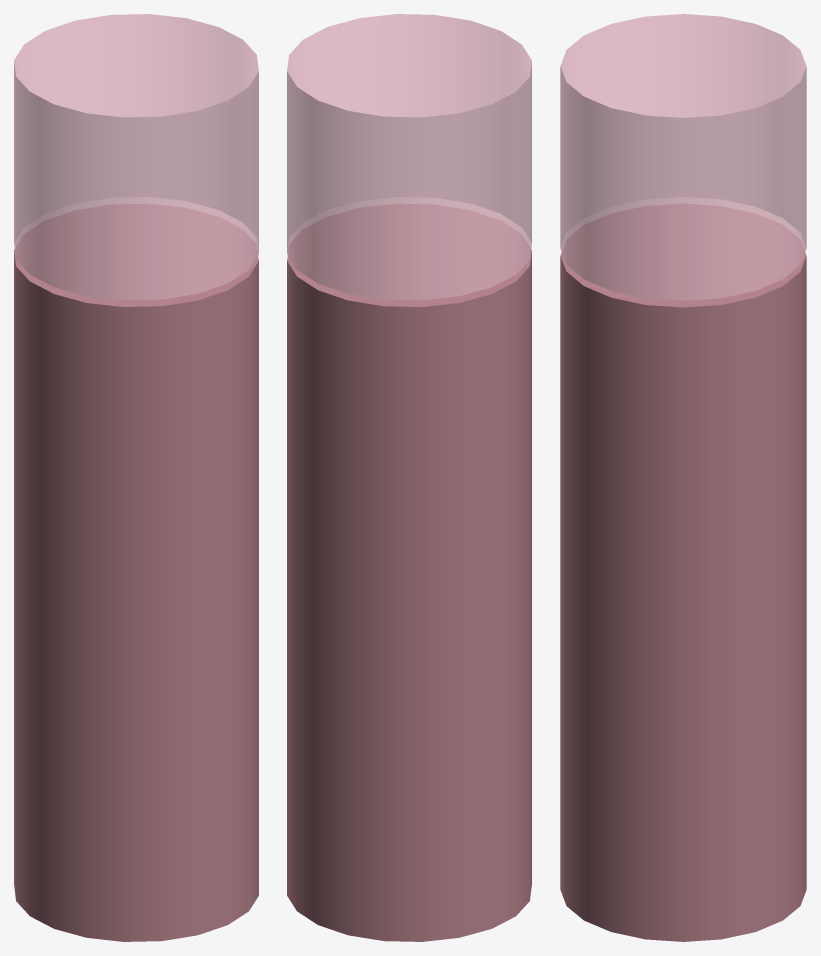
The model's file is Perfume_Pink 1.fbx.
The picture shows the model from 3 angles, left to right: view 1: azimuth 30°, elevation 25°; view 2: azimuth 150°, elevation 25°; view 3: azimuth 270°, elevation 25°; orthographic projection.
Visible parts, largest first — view 1: polySurface400; view 2: polySurface400; view 3: polySurface400.
Boxes of the visible parts, box(x1,y1,x2,y2) form: polySurface400: box(14, 14, 258, 941); polySurface400: box(287, 14, 531, 941); polySurface400: box(560, 14, 806, 941).
Bounding box in the file's own units: 0.04 × 0.1478 × 0.04.
